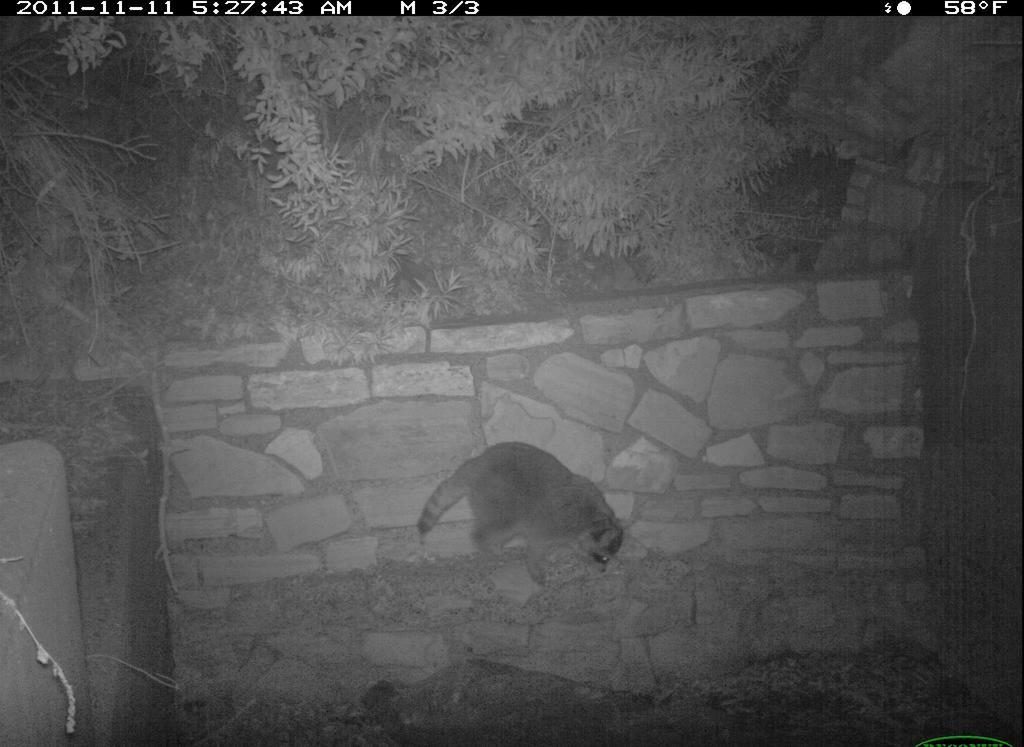raccoon: (414, 417, 628, 598)
